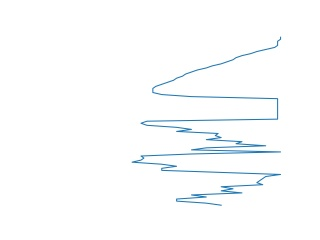floodPlain: (129, 160, 284, 207)
floodSwamp: (129, 123, 284, 163)
meanderPointBar: (148, 36, 282, 117)
